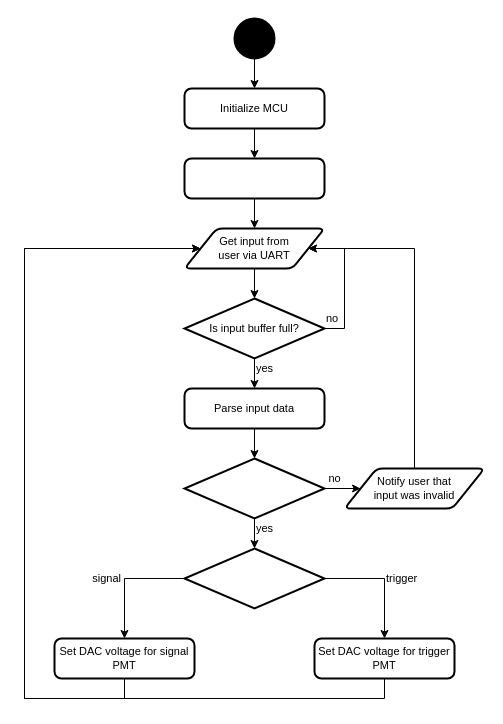
Some shapes in this 503 by 724 pixel diagram are drawn without their labels. The centre of each missing label's shape, as x and y in pixels:
Is input valid?: [254,488]
PMT selection?: [254,578]
Set DACs to previously saved voltages: [254,178]
